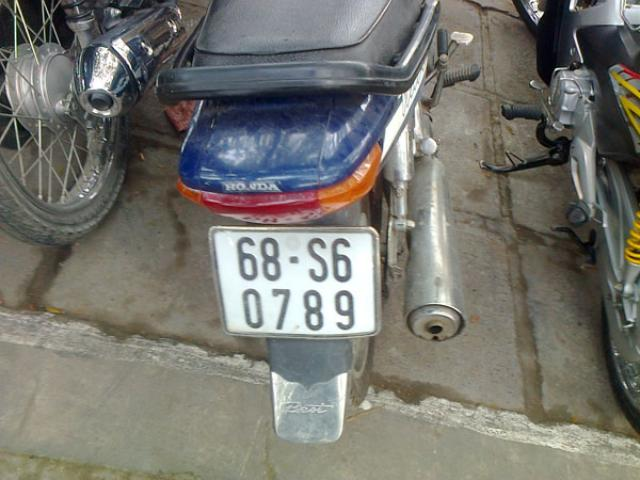plate: (223, 231, 373, 333)
